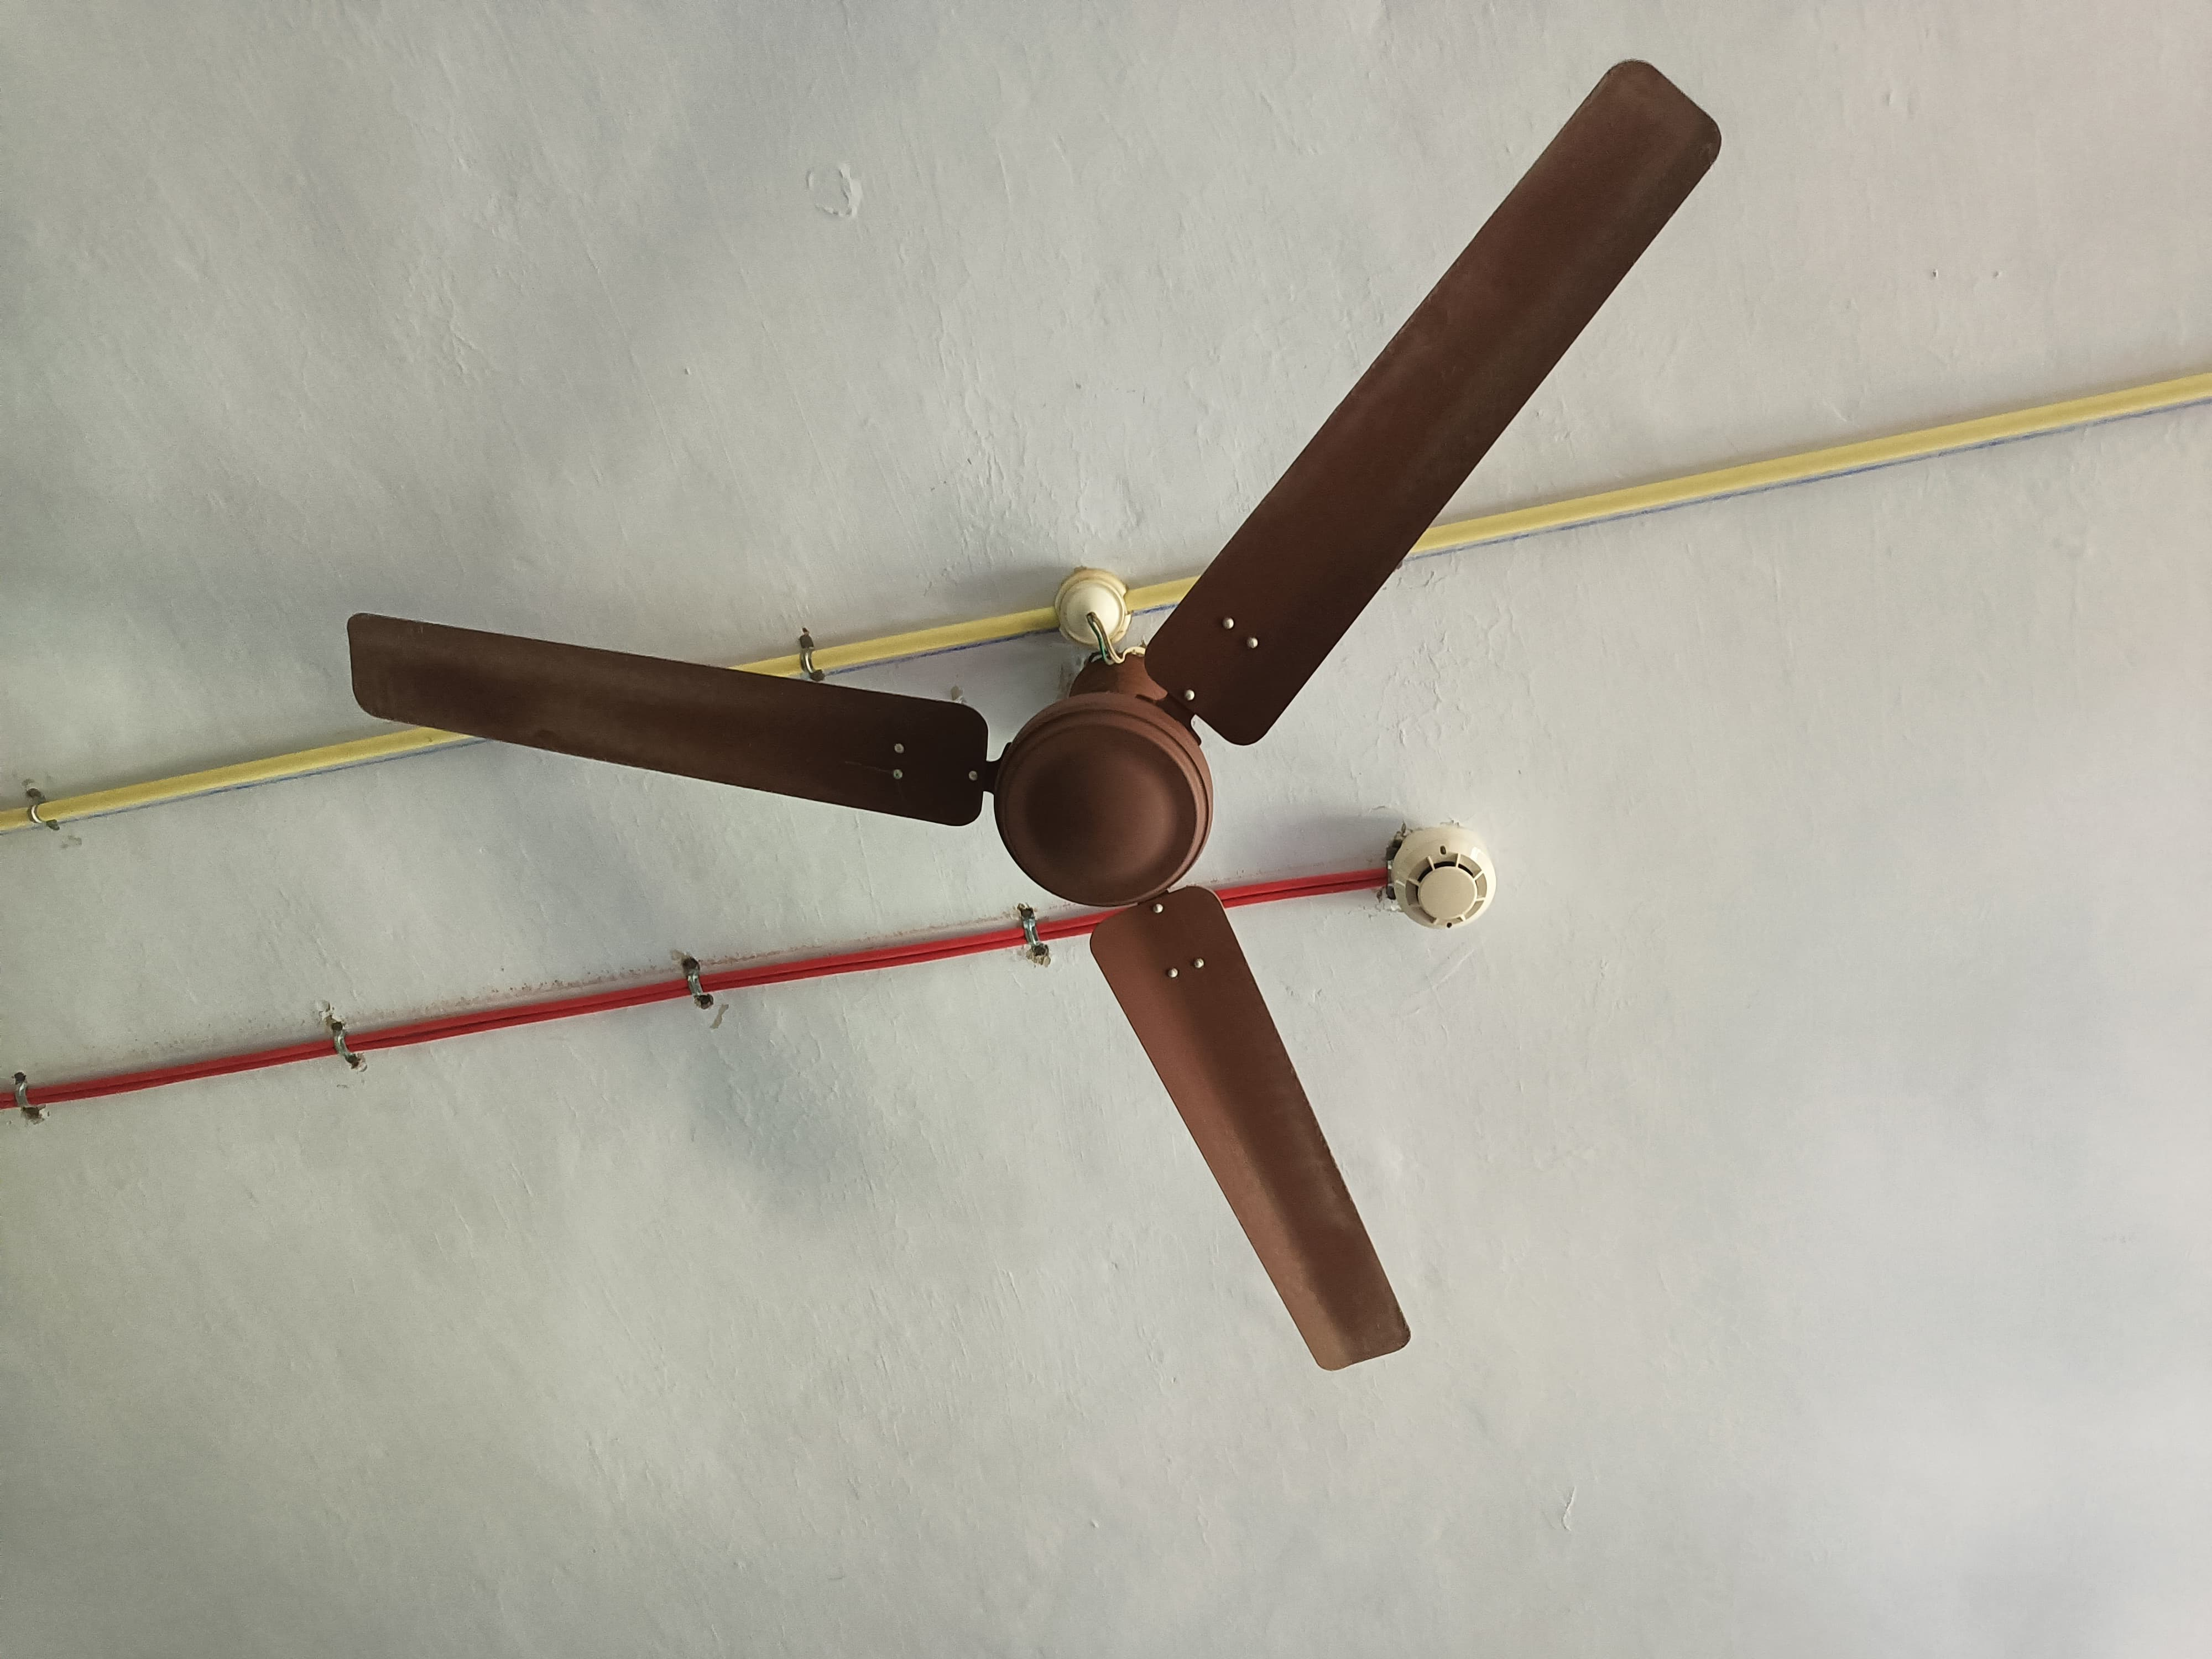Fan: (333, 56, 1719, 1378)
